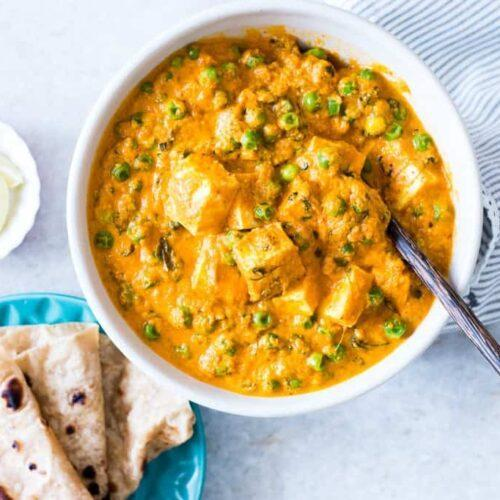paneer: (154, 104, 331, 318)
roti: (0, 329, 89, 500)
